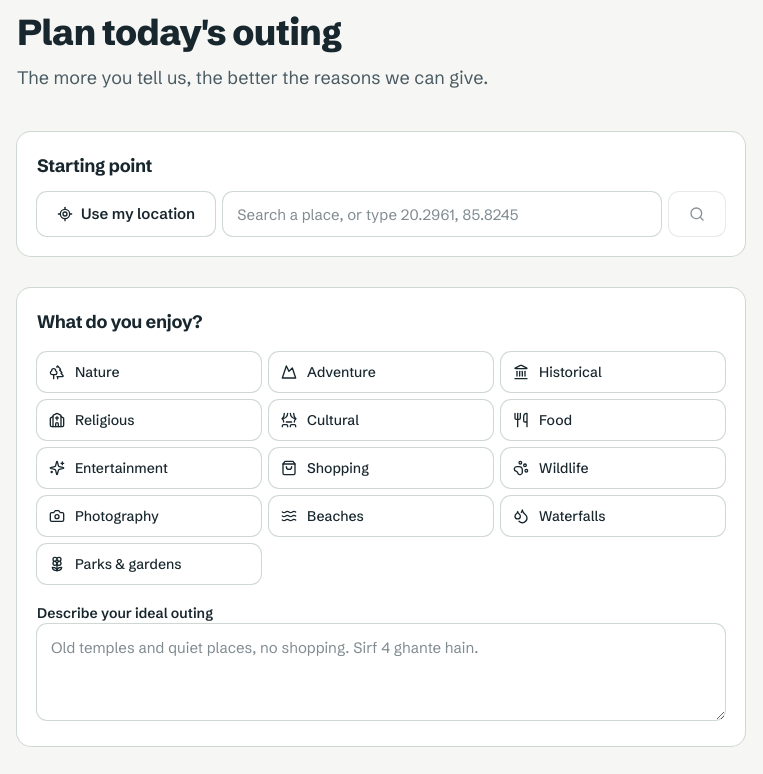
Test: ExplorePage › accepts coordinates typed into the search box
Type "20.2961, 85.8245" into the field named "search for a town" at (442, 214), box top-left (223, 192), bottom-right (661, 236)
Then press Enter
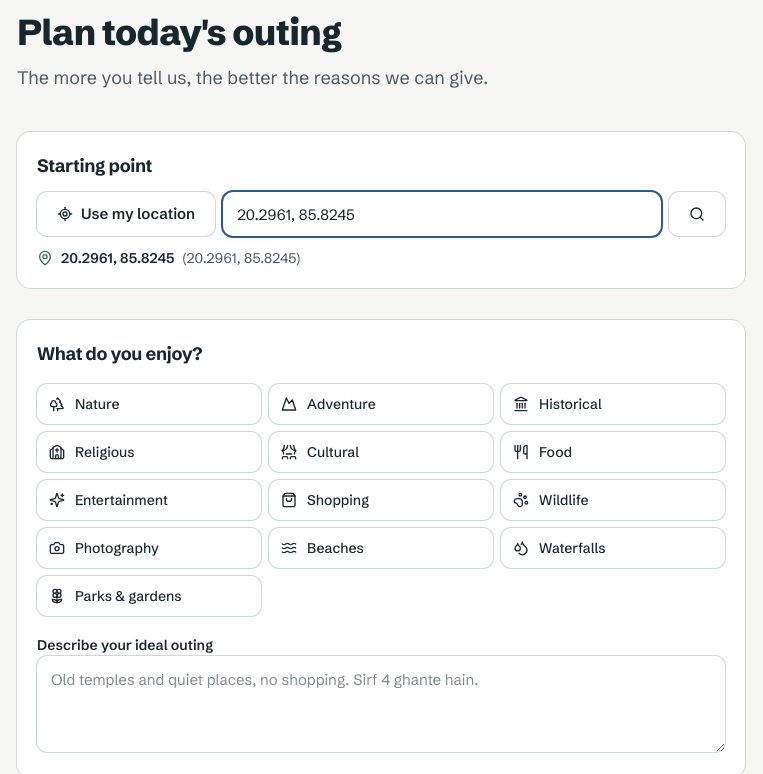
Expected: the text "(20.2961, 85.8245)" is shown, top-left (182, 248), bottom-right (300, 268)
